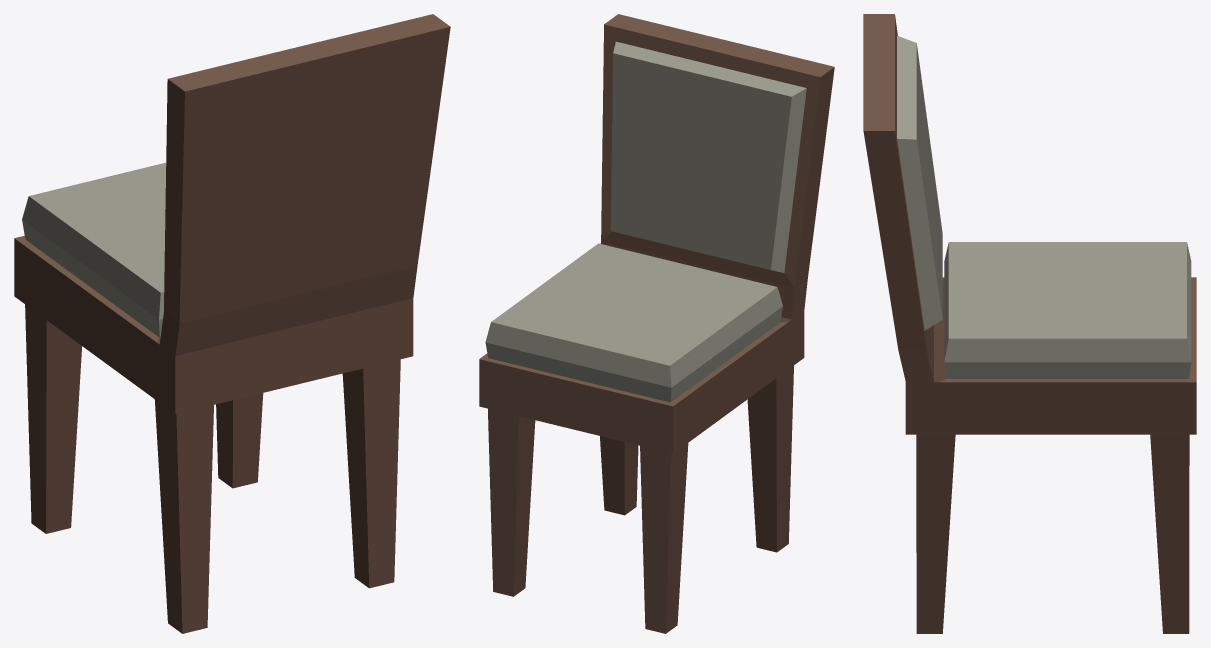
File: Prop_Chair_01.fbx
3 renders of one model, left to right at view 1: azimuth 30°, elevation 25°; view 2: azimuth 150°, elevation 25°; view 3: azimuth 270°, elevation 25°, orthographic. The views are drawn at different scales.
Parts seen in each view (by area): view 1: Chair_01; view 2: Chair_01; view 3: Chair_01.
Boxes of the visible parts, x1,y1,x2,y2 form: Chair_01: [14, 14, 450, 633]; Chair_01: [479, 14, 834, 633]; Chair_01: [863, 14, 1196, 633].
Bounding box in the file's own units: 28.12 × 33.83 × 57.7.
1 material, 1 textured.
